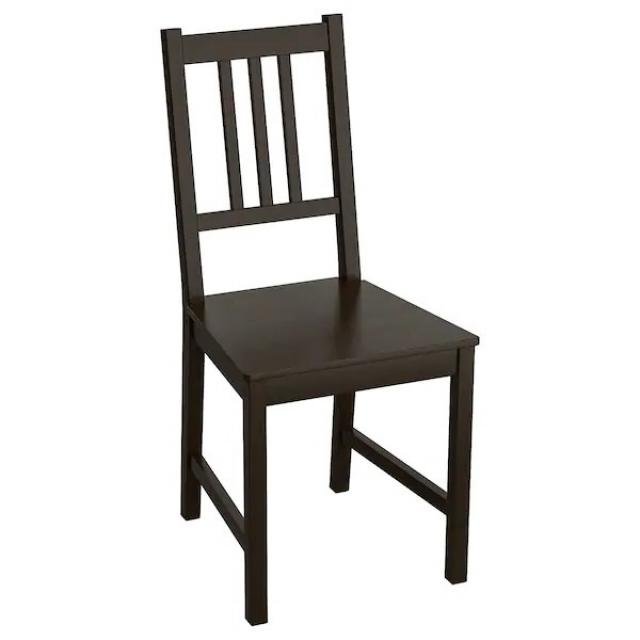Chair: (159, 9, 481, 627)
